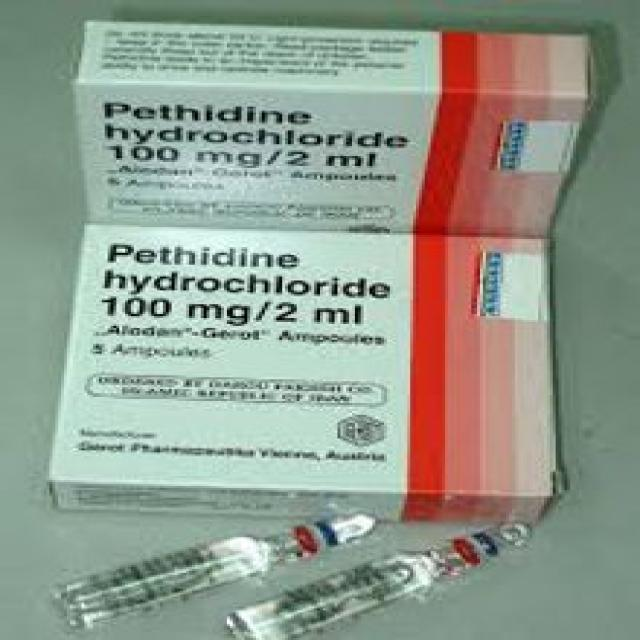B3: (218, 516, 576, 636)
